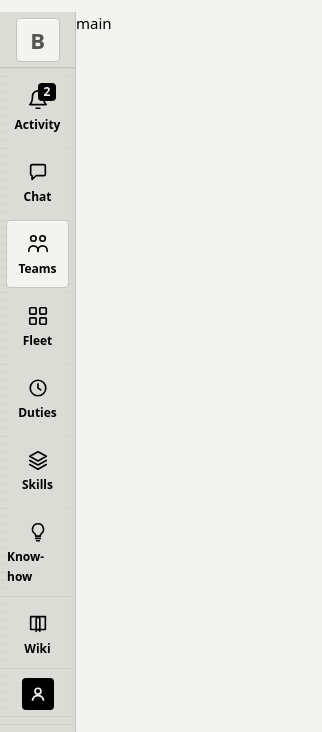
Test: the account and the tab › says You for the token of the fleet, never the word token
Click the button with class "account-key" at (38, 694), box [6,672,69,716]
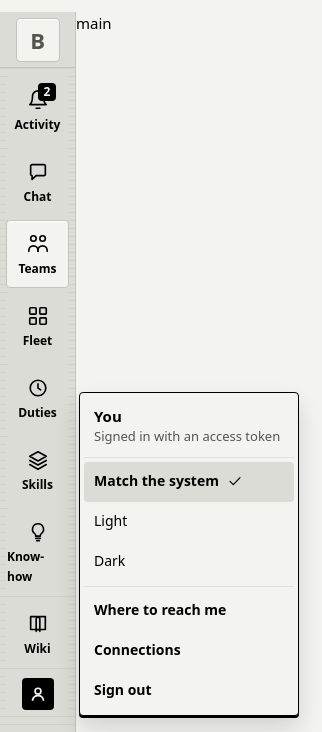
Result: the element with class "menu-head" reads "You Signed in with an access token" at [84,397,294,453]
